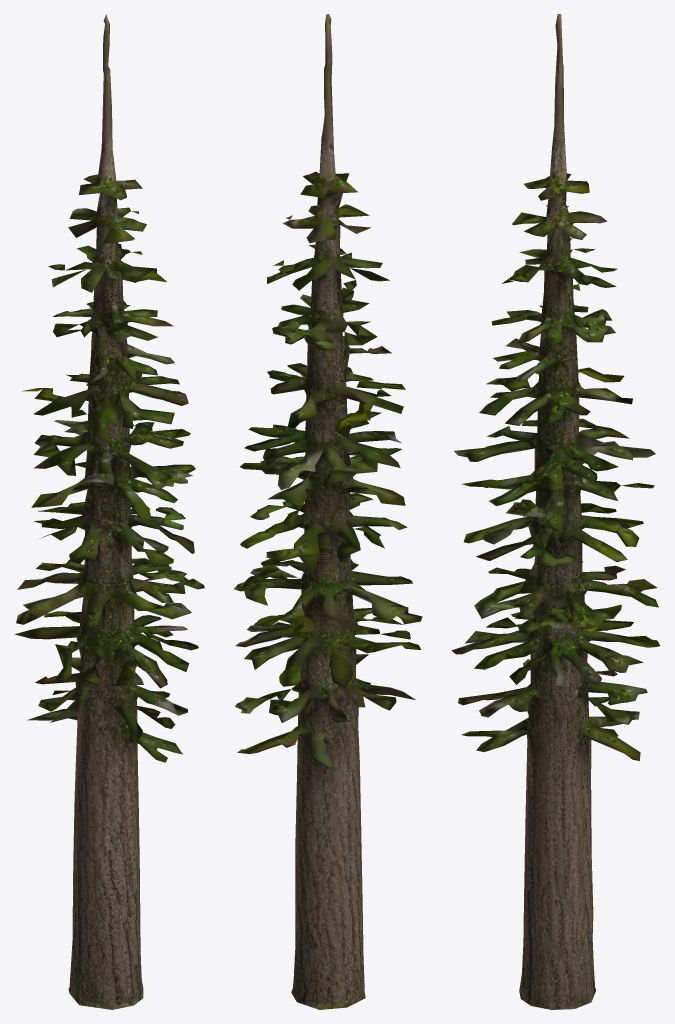
Rendered from tree_pine.glb.
3 renders of one model, left to right at view 1: azimuth 30°, elevation 25°; view 2: azimuth 150°, elevation 25°; view 3: azimuth 270°, elevation 25°, orthographic.
Parts seen in each view (by area): view 1: geometry_0; view 2: geometry_0; view 3: geometry_0.
Part boxes in pixels (<box>): geometry_0: <box>15,14,204,1009</box>; geometry_0: <box>234,14,422,1009</box>; geometry_0: <box>451,14,660,1009</box>.
Size of the model in its own units: 0.2188 by 1.15 by 0.2212.
1 material, 1 textured.
